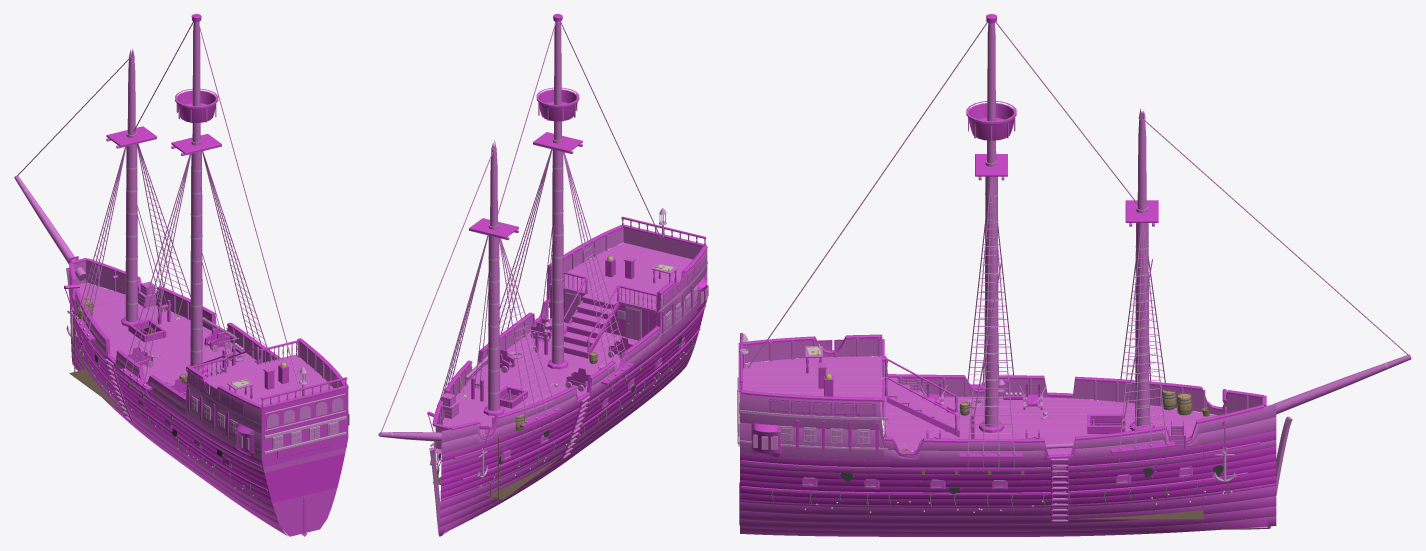
File: ship_wreck.glb
The picture shows the model from 3 angles, left to right: view 1: azimuth 30°, elevation 25°; view 2: azimuth 150°, elevation 25°; view 3: azimuth 270°, elevation 25°; orthographic projection. The views are drawn at different scales.
Parts seen in each view (by area): view 1: hull; view 2: hull; view 3: hull.
Part boxes in pixels (x1,y1,x2,y2): hull: (14, 14, 349, 536); hull: (378, 14, 708, 536); hull: (737, 14, 1411, 536).
Bounding box in the file's own units: 8.3 × 27.5 × 32.66.
